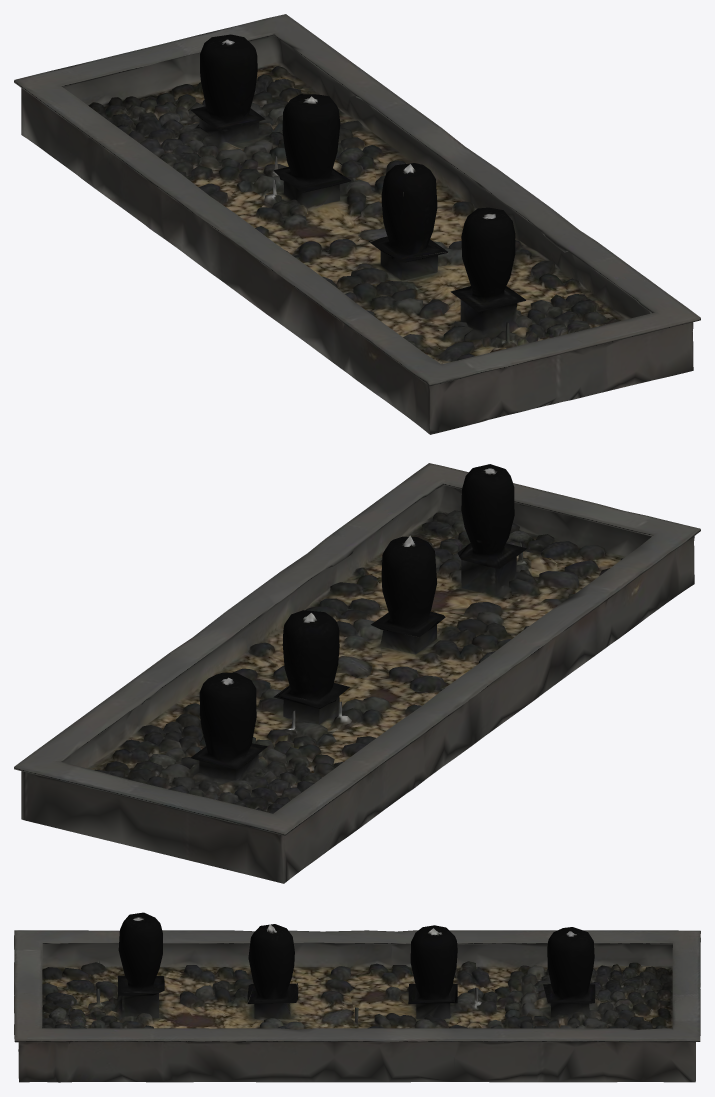
File: taman_depan_bicc.glb
The picture shows the model from 3 angles, top to bottom: view 1: azimuth 30°, elevation 25°; view 2: azimuth 150°, elevation 25°; view 3: azimuth 270°, elevation 25°; orthographic projection. The views are drawn at different scales.
Visible parts, largest first — view 1: tripo_node_b3ad3ebc-332a-41ed-8424-ee3ecafd6713; view 2: tripo_node_b3ad3ebc-332a-41ed-8424-ee3ecafd6713; view 3: tripo_node_b3ad3ebc-332a-41ed-8424-ee3ecafd6713.
Part boxes in pixels (left/top/right/bottom): tripo_node_b3ad3ebc-332a-41ed-8424-ee3ecafd6713: left=14, top=14, right=700, bottom=434; tripo_node_b3ad3ebc-332a-41ed-8424-ee3ecafd6713: left=14, top=463, right=700, bottom=883; tripo_node_b3ad3ebc-332a-41ed-8424-ee3ecafd6713: left=14, top=912, right=700, bottom=1082.
Size of the model in its own units: 0.377 by 0.1783 by 0.9996.
Materials: 1 (1 with a texture image).
